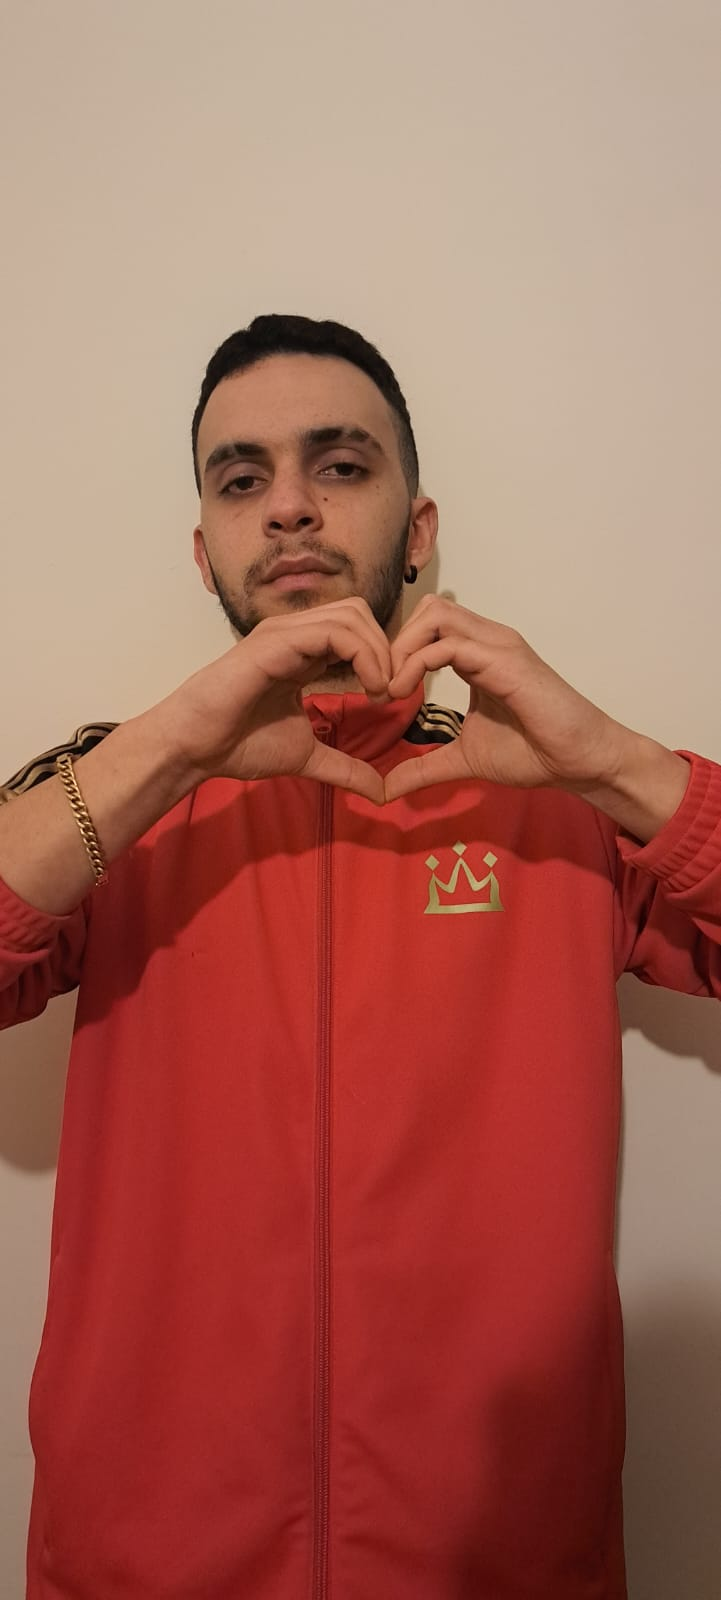cuore: (175, 589, 624, 819)
